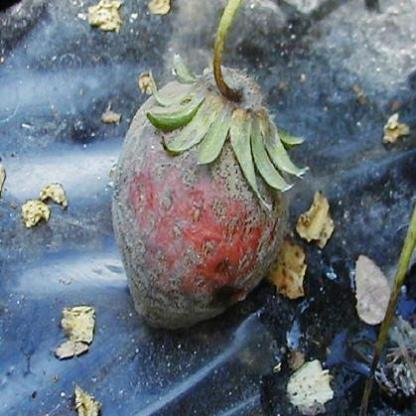Strawberry_Gray_Mold: (112, 64, 308, 330)
